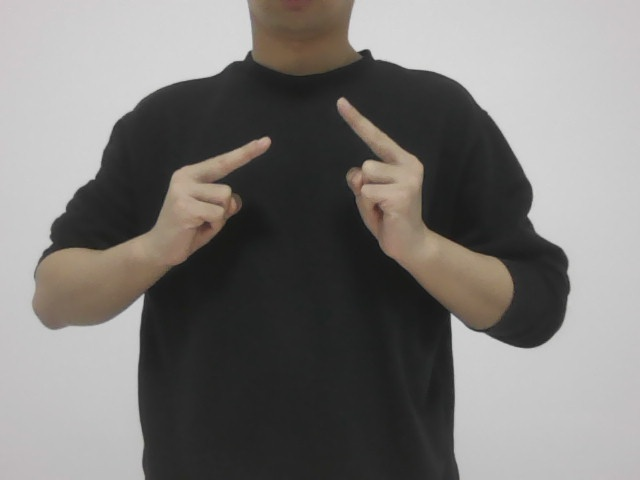know: (157, 91, 436, 290)
